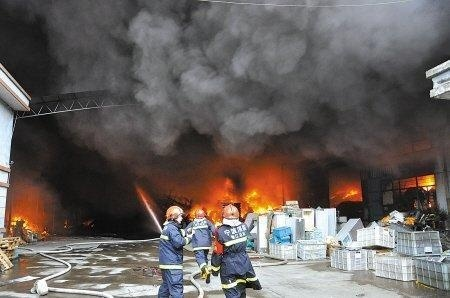fire: (187, 181, 281, 221), (9, 211, 44, 232), (334, 181, 364, 201), (407, 172, 437, 190)
